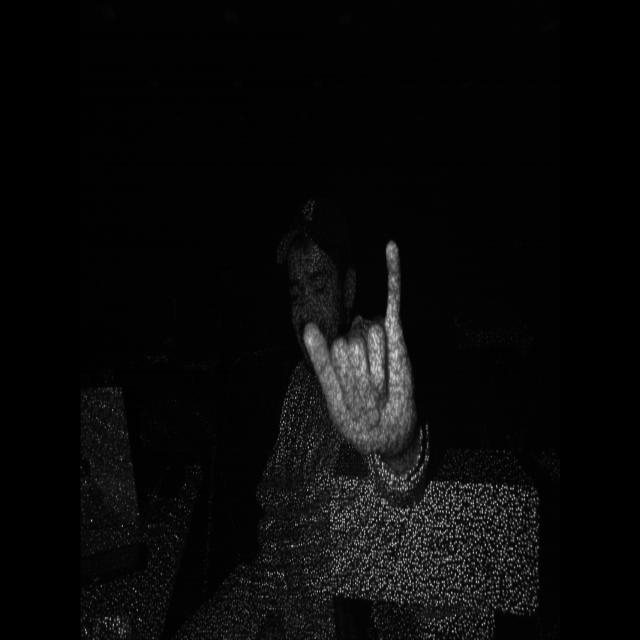I: (290, 213, 435, 499)
